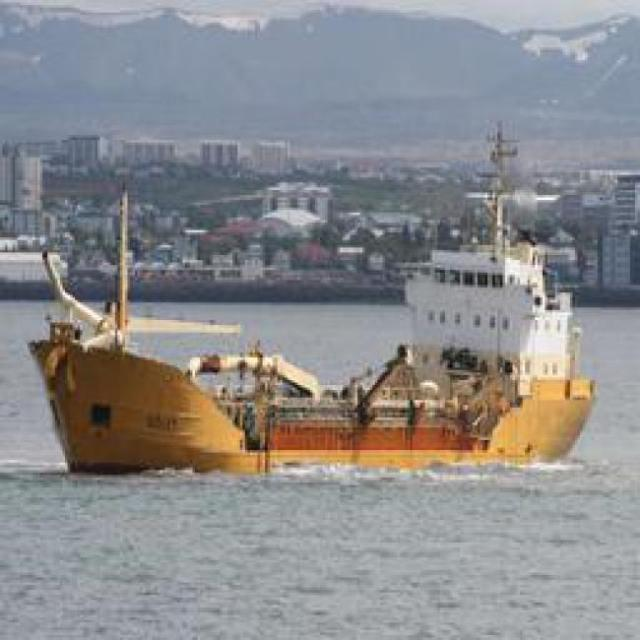boat: (36, 286, 589, 472)
